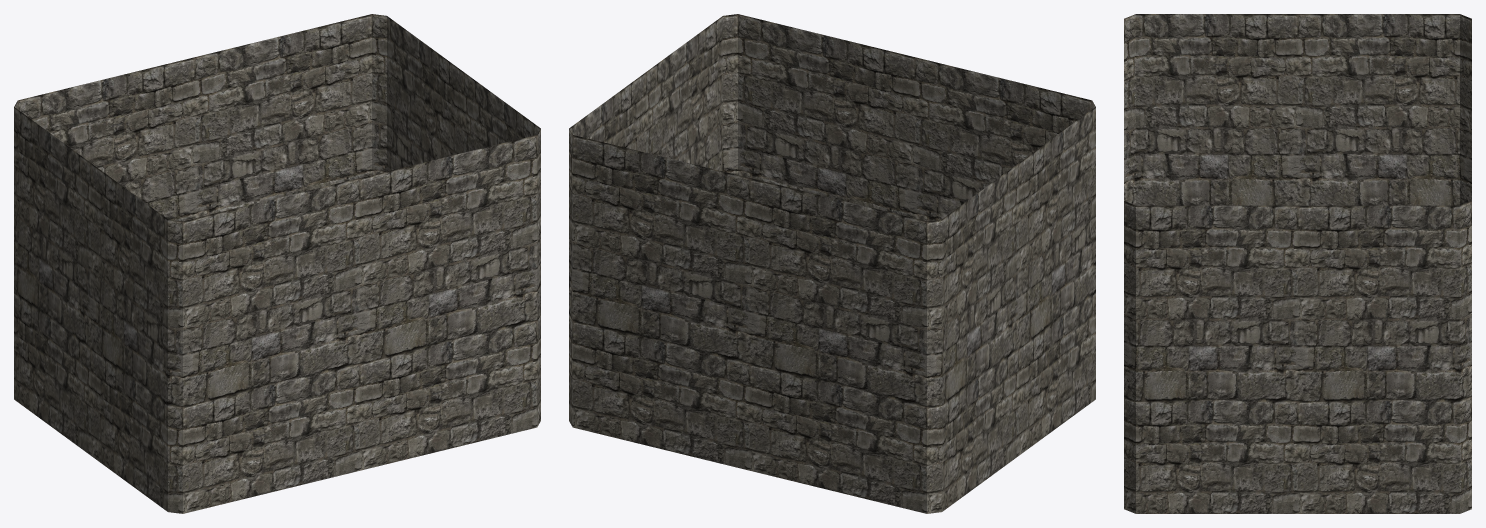
The model's file is StoneBridgeExtension.dae.
3 views of the same model, side by side, from view 1: azimuth 30°, elevation 25°; view 2: azimuth 150°, elevation 25°; view 3: azimuth 270°, elevation 25° (orthographic). The views are drawn at different scales.
Visible parts, largest first — view 1: Extension; view 2: Extension; view 3: Extension.
Boxes of the visible parts, x1=… form: Extension: x1=14, y1=14, x2=540, y2=513; Extension: x1=569, y1=14, x2=1095, y2=513; Extension: x1=1124, y1=14, x2=1471, y2=513.
Size of the model in its own units: 4 by 3 by 3.07.
